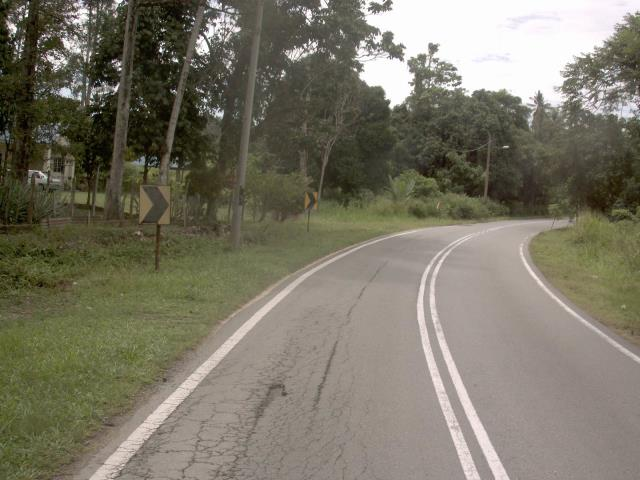traffic_sign: (130, 175, 178, 232)
